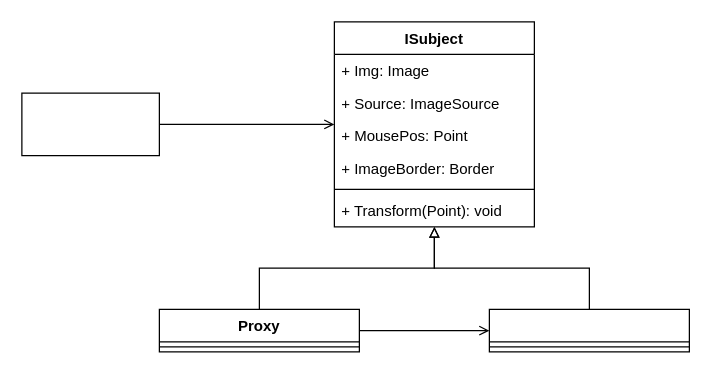
The diagram is 711 pixels wide and 374 high, and some of its shapes have lost their labels. The centre of each missing label's shape, as x and y in pixels:
Client: (x=90, y=124)
Subject: (x=588, y=330)
